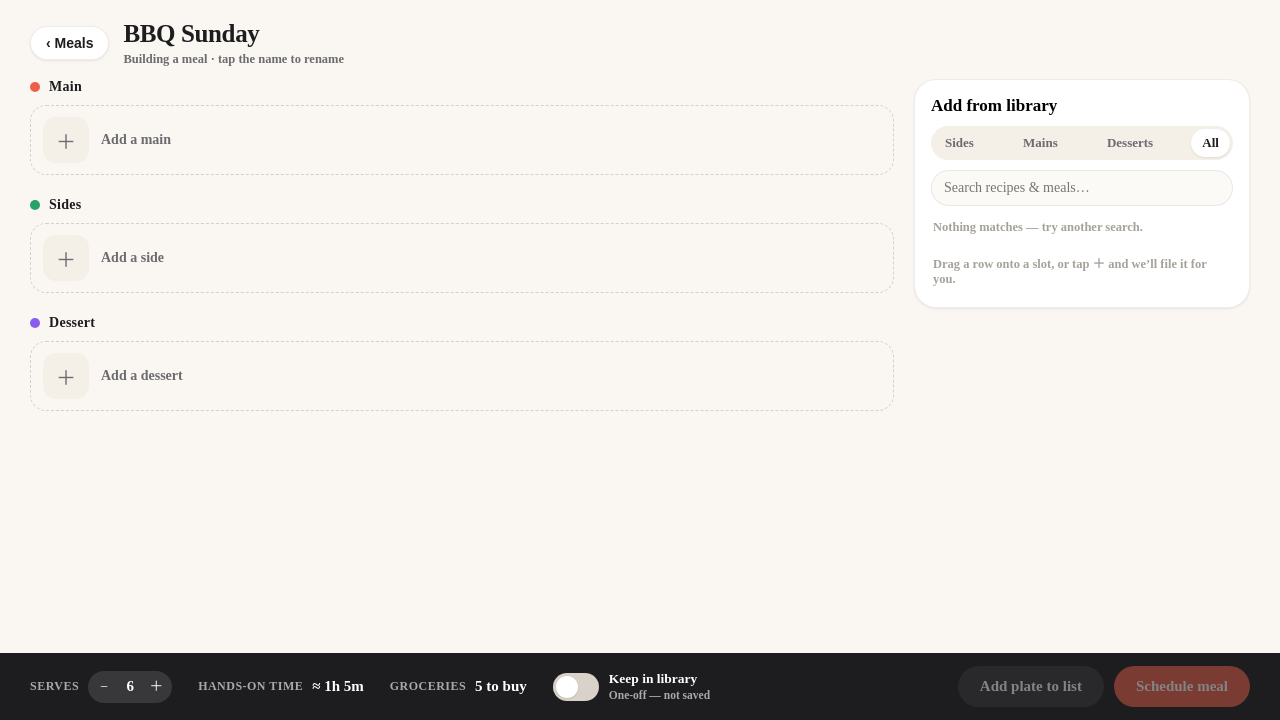
Test: MealBuilder — add from library › adds a recipe to the plate with the role of the slot that was clicked
Click the button "＋ Add a main": (66, 140) [30, 105, 894, 175]
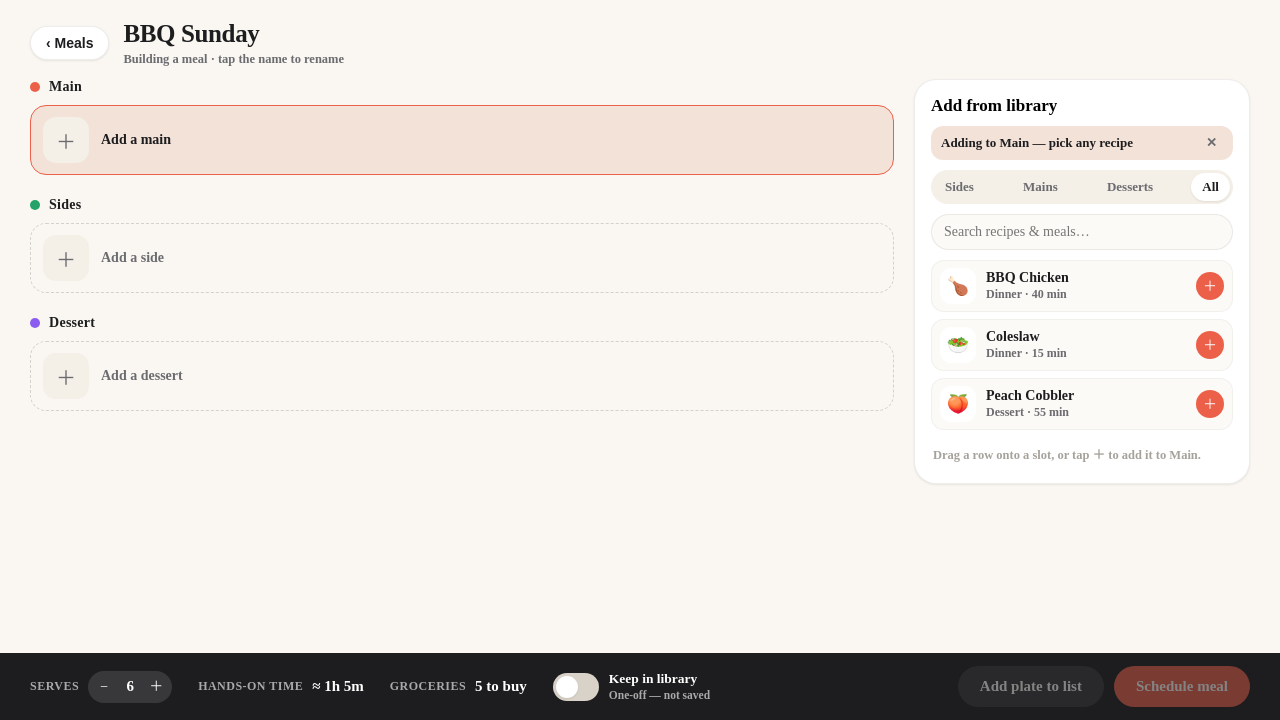
Expected: the text "Adding to Main — pick any recipe" is shown, [941, 135, 1133, 151]
Click the button named "Add BBQ Chicken": (1210, 286) [1196, 272, 1224, 300]
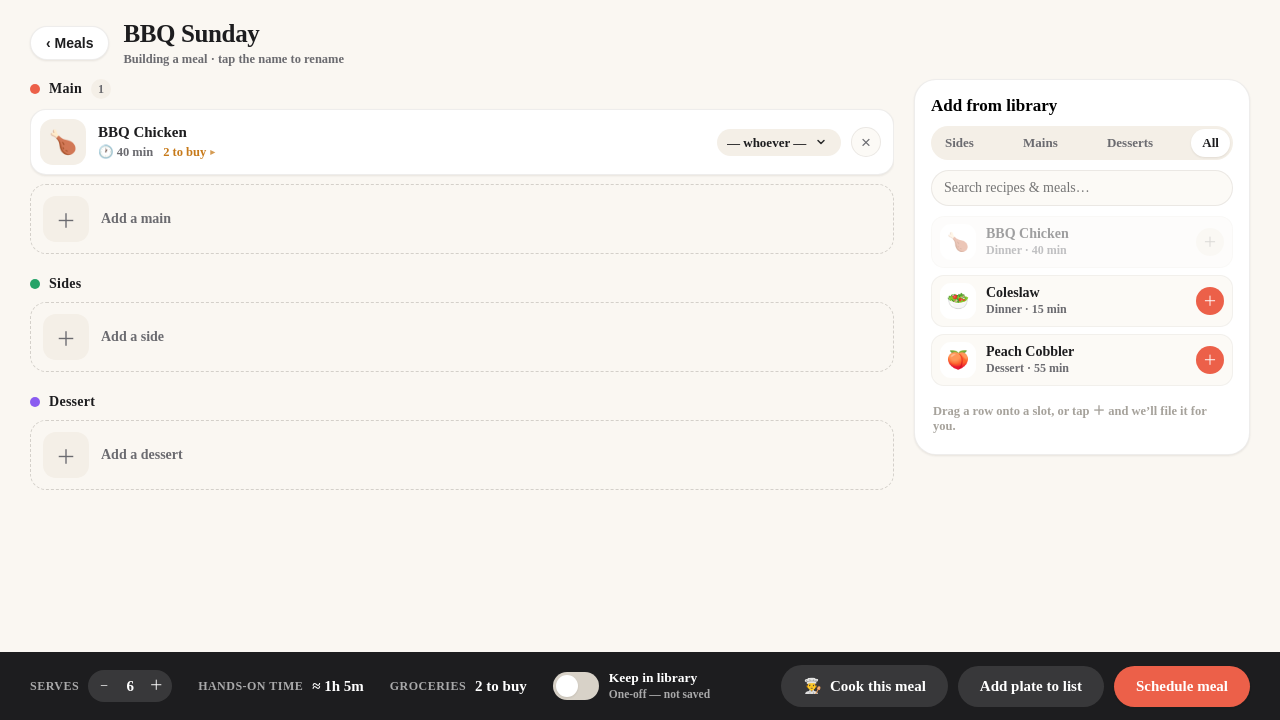
Expected: the 1st text "BBQ Chicken" is shown, [98, 124, 187, 140]
